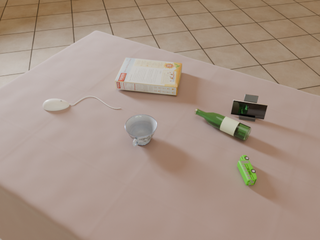bottle: (195, 108, 251, 141)
box: (115, 58, 182, 95)
cup: (125, 115, 157, 146)
mouse: (43, 99, 69, 111)
phone: (231, 100, 268, 119)
toy_car: (237, 155, 257, 185)
